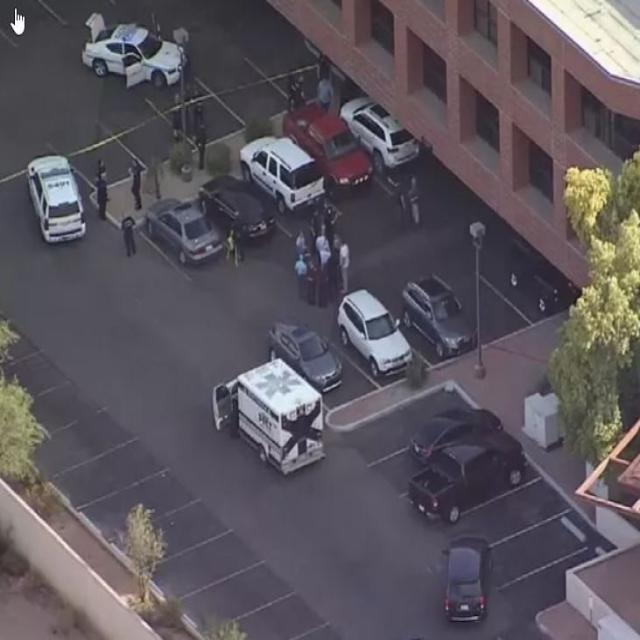traffic_incident: (281, 102, 373, 195)
